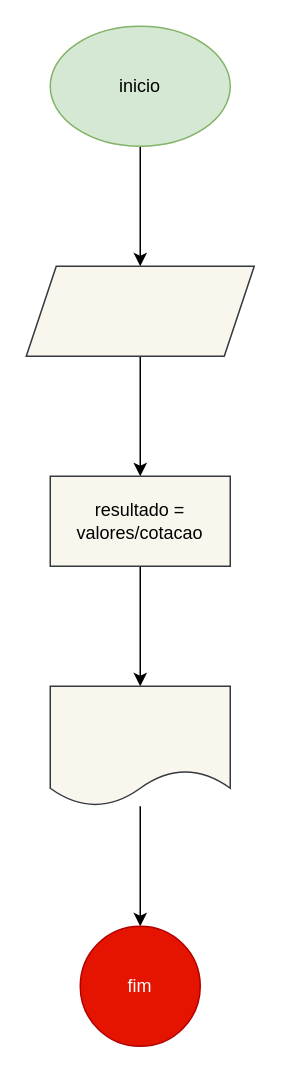
This 281x1073 diagram has some shape labels left out. Here are the shapes that lost their labels. From the top down, the centre of each, then its label:
pixel 139 310: cotacao, valoresreais
pixel 139 745: resultado
